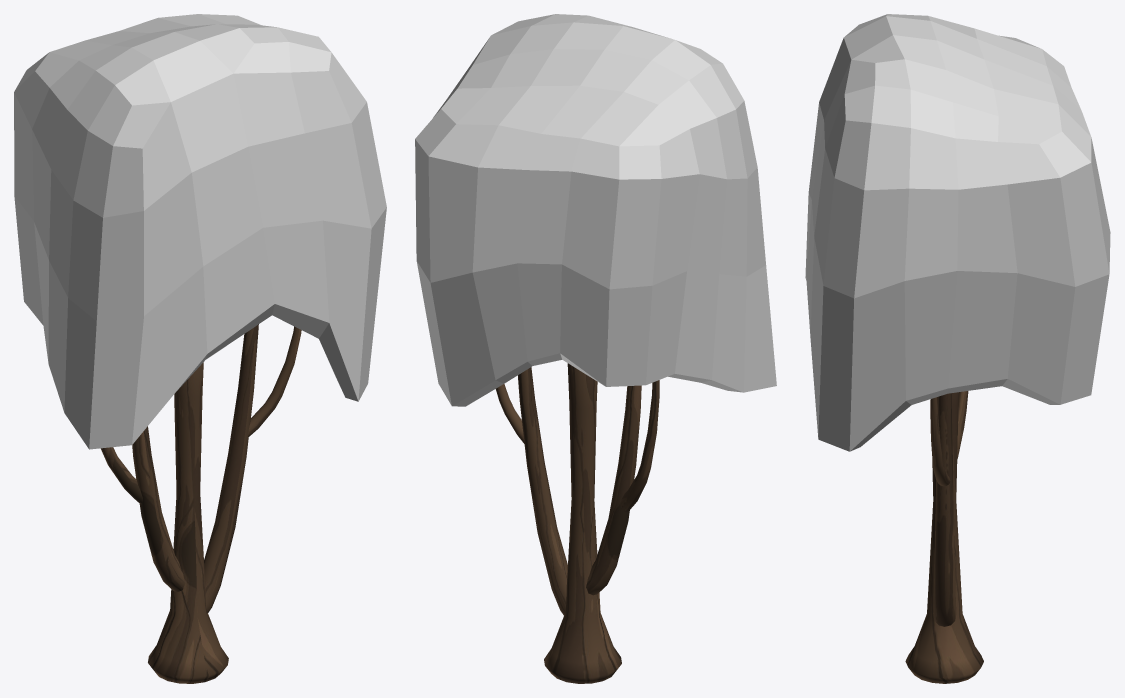
Rendered from swamp_trees_2.fbx.
3 views of the same model, side by side, from view 1: azimuth 30°, elevation 25°; view 2: azimuth 150°, elevation 25°; view 3: azimuth 270°, elevation 25° (orthographic). The views are drawn at different scales.
Parts seen in each view (by area): view 1: Cube, BezierCurve.003; view 2: Cube, BezierCurve.003; view 3: Cube, BezierCurve.003.
Part boxes in pixels (x1,y1,x2,y2): Cube: (14, 14, 386, 449); BezierCurve.003: (100, 324, 301, 683); Cube: (415, 14, 776, 406); BezierCurve.003: (496, 363, 659, 683); Cube: (805, 14, 1110, 451); BezierCurve.003: (905, 391, 983, 683).
Bounding box in the file's own units: 197 × 406 × 179.
